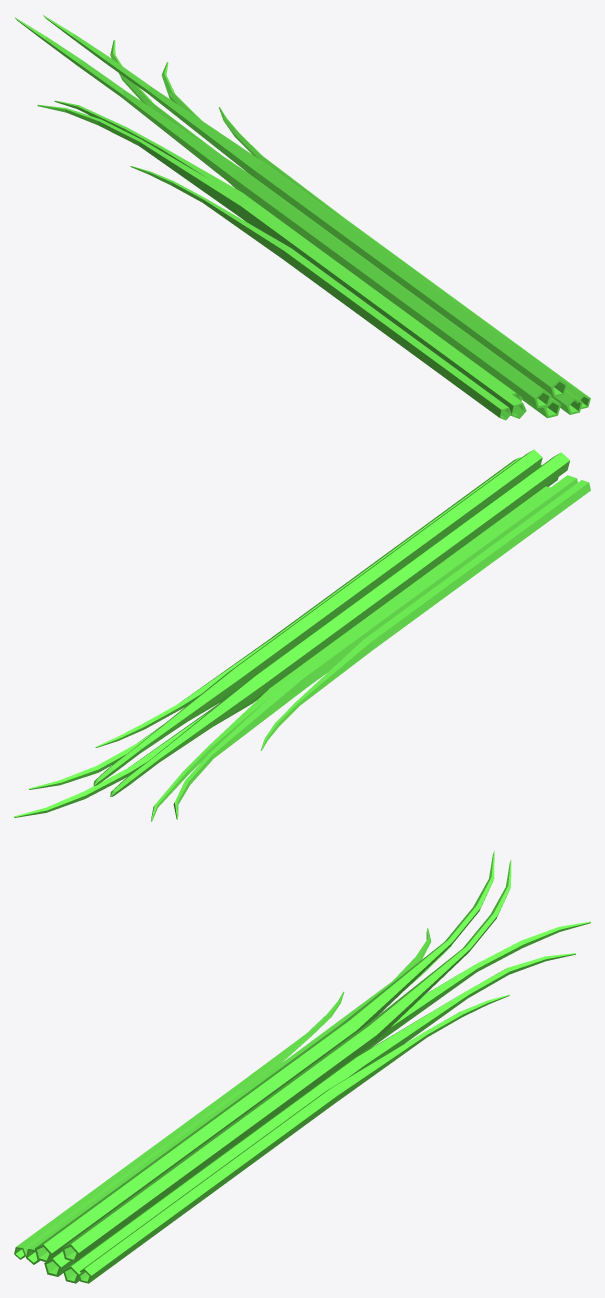
File: chives03.obj
3 renders of one model, top to bottom at view 1: azimuth 30°, elevation 25°; view 2: azimuth 150°, elevation 25°; view 3: azimuth 330°, elevation 25°, orthographic.
Visible parts, largest first — view 1: Cylinder.002; view 2: Cylinder.002; view 3: Cylinder.002.
Part boxes in pixels (box(x1,y1,x2,y2)): Cylinder.002: box(14, 15, 590, 420); Cylinder.002: box(14, 449, 590, 821); Cylinder.002: box(14, 851, 590, 1283).
Bounding box in the file's own units: 0.0467 × 0.0182 × 0.2847.
Materials: 1 (1 with a texture image).
